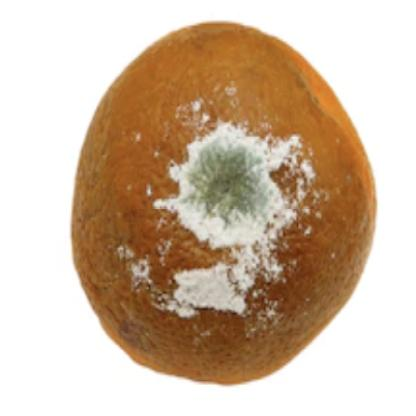rotten: (74, 23, 379, 386)
